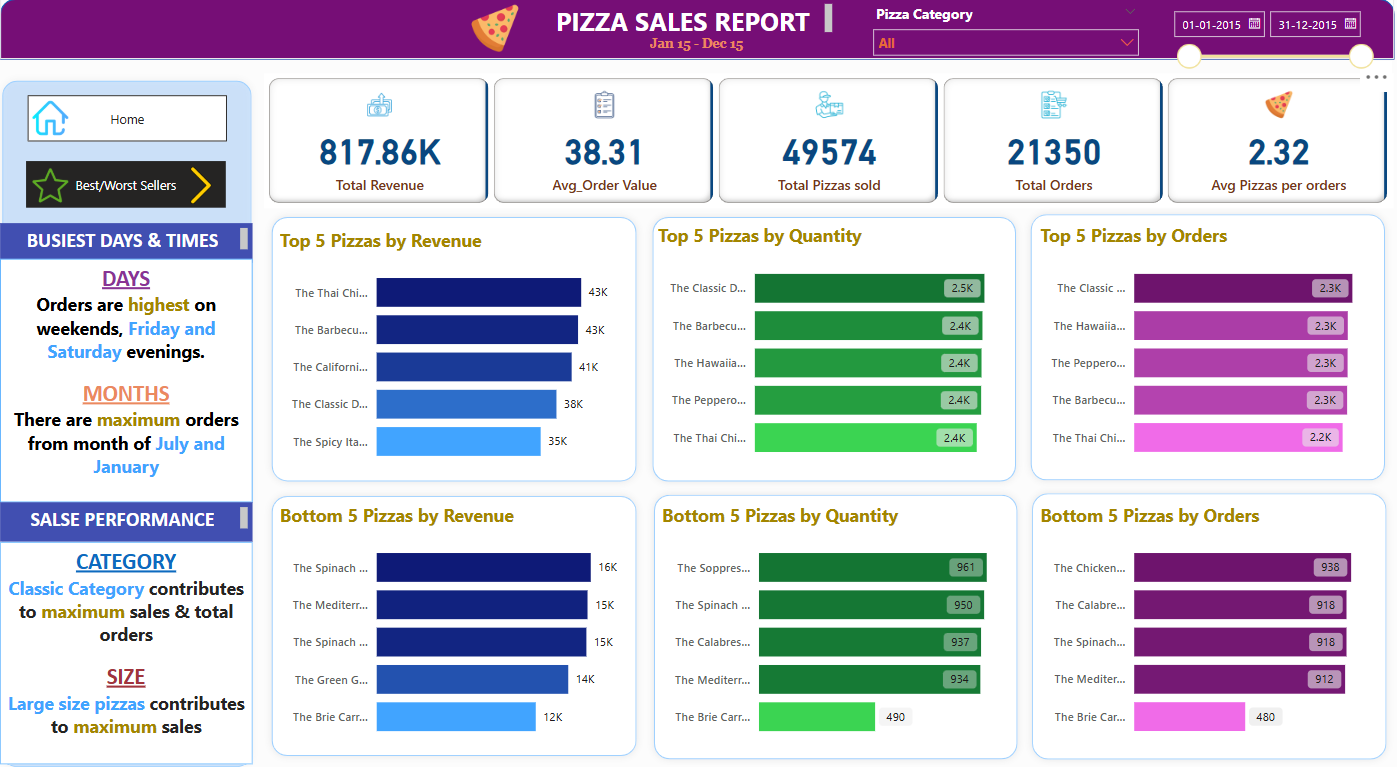

What the dashboard file says about the page in this screenshot:
{"tool":"powerbi","page":{"name":"Best/Worst Sellers","canvas":[1500,820],"ordinal":1},"visuals":[{"type":"cardVisual","fields":{"Data":["pizza_sales.Total Revenue","pizza_sales.Avg_Order Value","pizza_sales.Total Pizzas sold","pizza_sales.Total Orders","pizza_sales.Avg Pizzas per orders"]},"box":[295,78.6,1191.3,142.7],"z":0},{"type":"shape","box":[16.1,0,1470.2,64.2],"z":1000},{"type":"shape","box":[9.6,78.6,279,740.7],"z":2000},{"type":"textbox","box":[581.4,0,317.1,42.9],"z":3000},{"type":"textbox","box":[695.7,31.4,132.9,34.3],"z":4000},{"type":"image","box":[494.3,0,87.1,61.4],"z":5000},{"type":"shape","box":[295,221.3,400.8,295],"z":6000},{"type":"textbox","box":[16,235.7,266.2,41.7],"z":7000},{"type":"textbox","box":[16,274.2,266.2,256.5],"z":8000},{"type":"textbox","box":[16,530.7,266.2,41.7],"z":9000},{"type":"textbox","box":[15.9,572.7,272.6,237.8],"z":10000},{"type":"slicer","fields":{"Values":["pizza_sales.pizza_category"]},"box":[926.7,0,299.8,60.9],"z":11000},{"type":"slicer","fields":{"Values":["pizza_sales.order_date"]},"box":[1241,3.2,230.9,75.4],"z":12000},{"type":"shape","box":[695.9,221.3,399.2,295],"z":13000},{"type":"shape","box":[1095.1,219.7,389.6,296.6],"z":14000},{"type":"shape","box":[295,516.3,400.8,290.2],"z":15000},{"type":"shape","box":[697.5,514.7,399.2,295],"z":16000},{"type":"shape","box":[1096.7,513.1,389.6,296.6],"z":17000},{"type":"barChart","title":"Top 5 Pizzas by Revenue","fields":{"Category":["pizza_sales.pizza_name"],"Y":["pizza_sales.Total Revenue"]},"box":[306.2,240.5,376.8,262.9],"z":18000},{"type":"barChart","title":"Bottom 5 Pizzas by Revenue","fields":{"Category":["pizza_sales.pizza_name"],"Y":["pizza_sales.Total Revenue"]},"box":[306.1,530.9,377.8,263.5],"z":19000},{"type":"barChart","title":"Top 5 Pizzas by Quantity","fields":{"Category":["pizza_sales.pizza_name"],"Y":["pizza_sales.Total Pizzas sold"]},"box":[705.3,236.4,377.8,263.5],"z":20000},{"type":"barChart","title":"Bottom 5 Pizzas by Quantity","fields":{"Category":["pizza_sales.pizza_name"],"Y":["pizza_sales.Total Pizzas sold"]},"box":[709.1,530.9,377.8,263.5],"z":21000},{"type":"barChart","title":"Top 5 Pizzas by Orders","fields":{"Category":["pizza_sales.pizza_name"],"Y":["pizza_sales.Total Orders"]},"box":[1107.9,235.7,364,262.9],"z":22000},{"type":"barChart","title":"Bottom 5 Pizzas by Orders","fields":{"Category":["pizza_sales.pizza_name"],"Y":["pizza_sales.Total Orders"]},"box":[1107.9,530.7,364,262.9],"z":23000},{"type":"pageNavigator","box":[43.3,171.6,210,49.7],"z":24000},{"type":"pageNavigator","box":[44.9,101,210,49.7],"z":25000},{"type":"image","box":[203.6,171.6,49.7,51.3],"z":27000},{"type":"image","box":[44.9,99.4,48.1,51.3],"z":28000},{"type":"image","box":[44.9,171.6,48.1,51.3],"z":29000}]}

Visuals, with their boxes in screenshot pixels (x1, y1, x2, y2), scaled from the page's 1500x820 canvas onto the 1397x767 screenshot:
cardVisual - pizza_sales.Total Revenue x pizza_sales.Avg_Order Value: <region>275, 74, 1384, 207</region>
shape: <region>15, 0, 1384, 60</region>
shape: <region>9, 74, 269, 766</region>
textbox: <region>541, 0, 837, 40</region>
textbox: <region>648, 29, 772, 61</region>
image: <region>460, 0, 541, 57</region>
shape: <region>275, 207, 648, 483</region>
textbox: <region>15, 220, 263, 259</region>
textbox: <region>15, 256, 263, 496</region>
textbox: <region>15, 496, 263, 535</region>
textbox: <region>15, 536, 269, 758</region>
slicer - pizza_sales.pizza_category: <region>863, 0, 1142, 57</region>
slicer - pizza_sales.order_date: <region>1156, 3, 1371, 74</region>
shape: <region>648, 207, 1020, 483</region>
shape: <region>1020, 205, 1383, 483</region>
shape: <region>275, 483, 648, 754</region>
shape: <region>650, 481, 1021, 757</region>
shape: <region>1021, 480, 1384, 757</region>
"Top 5 Pizzas by Revenue" barChart: <region>285, 225, 636, 471</region>
"Bottom 5 Pizzas by Revenue" barChart: <region>285, 497, 637, 743</region>
"Top 5 Pizzas by Quantity" barChart: <region>657, 221, 1009, 468</region>
"Bottom 5 Pizzas by Quantity" barChart: <region>660, 497, 1012, 743</region>
"Top 5 Pizzas by Orders" barChart: <region>1032, 220, 1371, 466</region>
"Bottom 5 Pizzas by Orders" barChart: <region>1032, 496, 1371, 742</region>
pageNavigator: <region>40, 161, 236, 207</region>
pageNavigator: <region>42, 94, 237, 141</region>
image: <region>190, 161, 236, 208</region>
image: <region>42, 93, 87, 141</region>
image: <region>42, 161, 87, 208</region>
